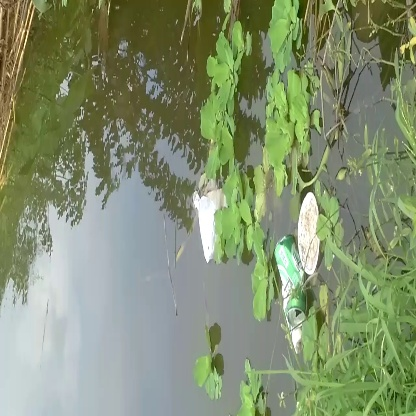bottle: (269, 237, 327, 328)
